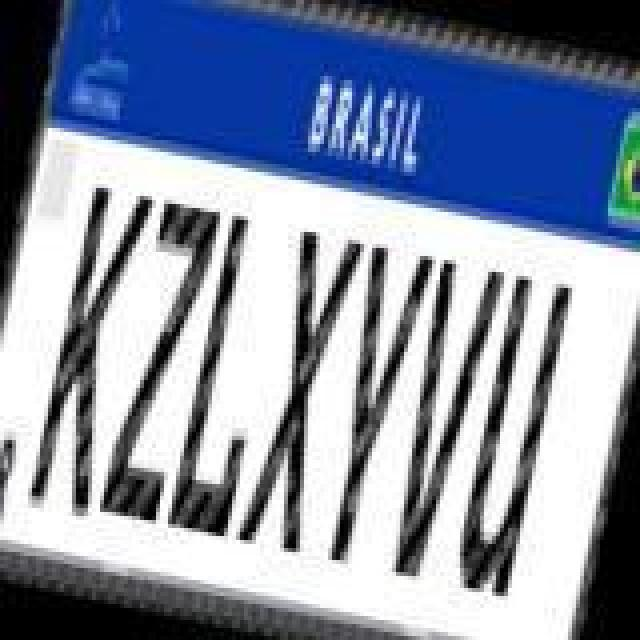K: (22, 182, 154, 522)
L: (162, 208, 294, 544)
U: (448, 268, 576, 604)
V: (374, 258, 506, 590)
X: (234, 226, 366, 558)
Y: (302, 242, 434, 574)
Z: (96, 194, 224, 526)
